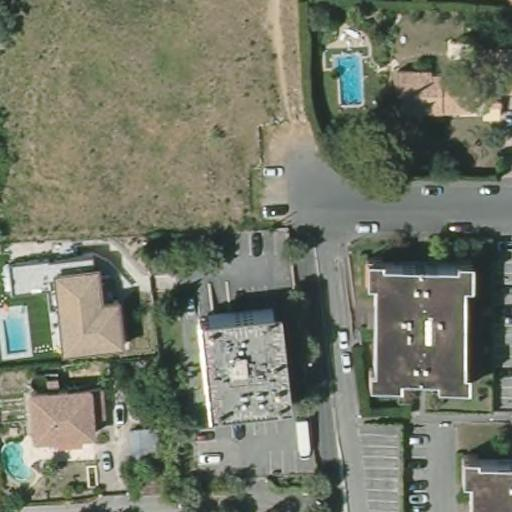pool: (333, 49, 369, 110), (2, 438, 38, 485), (3, 310, 31, 355)
